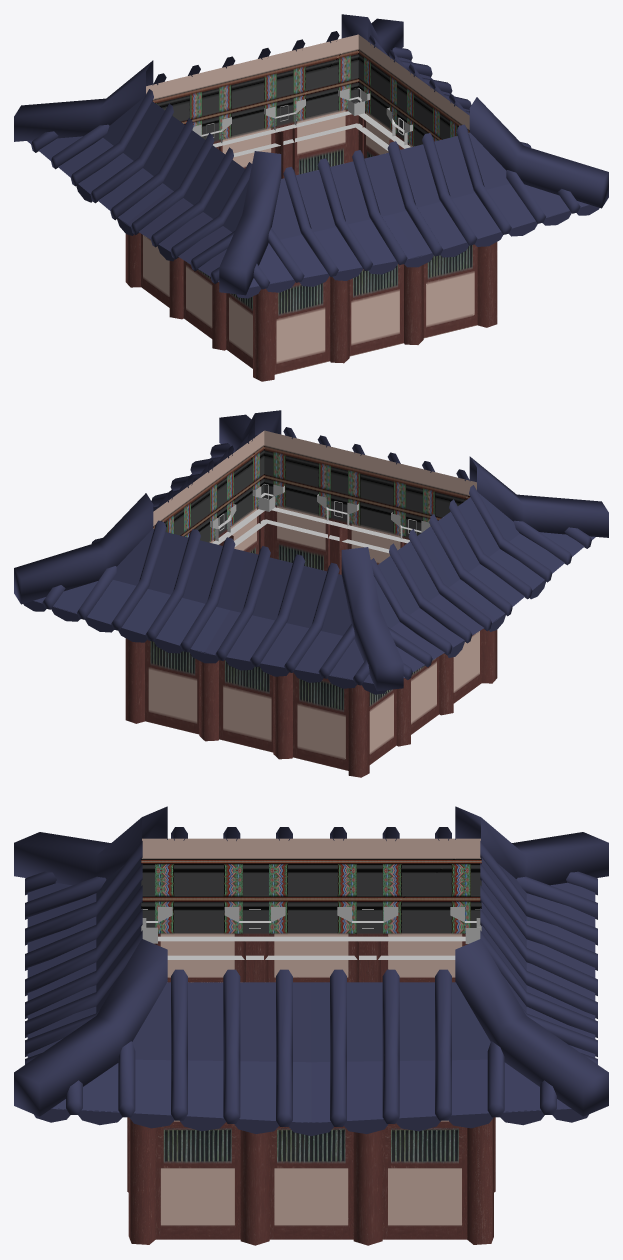
The model's file is Building_Tower_Middle.fbx.
3 views of the same model, one above another, from view 1: azimuth 30°, elevation 25°; view 2: azimuth 150°, elevation 25°; view 3: azimuth 270°, elevation 25° (orthographic). The views are drawn at different scales.
Visible parts, largest first — view 1: Cube.055, Cube.050, Cube.051, Cube.052, Cube.053, Cylinder.023, Cylinder.025, Cylinder.024, Cube.054, Circle.055, Circle.056, Circle.057 (+20 smaller); view 2: Cube.055, Cube.050, Cube.054, Cube.053, Cube.052, Cylinder.029, Cylinder.030, Cylinder.026, Cylinder.031, Cube.051, Circle.076, Circle.075 (+19 smaller); view 3: Cube.055, Cube.050, Cube.051, Cube.054, Cube.052, Cube.053, Cylinder.027, Cylinder.028, Cylinder.023, Cube.071, Cylinder.026, Circle.088 (+21 smaller).
Boxes of the visible parts, x1,y1,x2,y2 form: Cube.055: (141,34,477,374); Cube.050: (27,57,589,287); Cube.051: (469,97,608,208); Cube.052: (219,151,281,295); Cube.053: (14,60,153,141); Cylinder.023: (477,242,497,327); Cylinder.025: (330,277,349,363); Cylinder.024: (404,264,423,344); Cube.054: (341,14,403,56); Circle.055: (352,150,407,264); Circle.056: (387,141,442,256); Circle.057: (422,133,477,245); Cube.055: (145,430,481,770); Cube.050: (33,454,595,683); Cube.054: (14,493,153,604); Cube.053: (341,547,403,691); Cube.052: (469,456,608,537); Cylinder.029: (348,684,369,777); Cylinder.030: (273,672,292,759); Cylinder.026: (125,638,144,723); Cylinder.031: (199,660,218,741); Cube.051: (219,410,281,452); Circle.076: (215,546,270,660); Circle.075: (180,537,235,652); Cube.055: (141,838,481,1239); Cube.050: (27,857,595,1122); Cube.051: (14,939,167,1116); Cube.054: (455,939,608,1116); Cube.052: (14,806,167,885); Cube.053: (455,806,608,885); Cylinder.027: (353,1130,382,1245); Cylinder.028: (240,1130,269,1245); Cylinder.023: (128,1117,155,1244); Cube.071: (158,936,465,959); Cylinder.026: (467,1117,493,1244); Circle.088: (223,969,240,1123).
Bounding box in the file's own units: 210 × 113 × 210.
